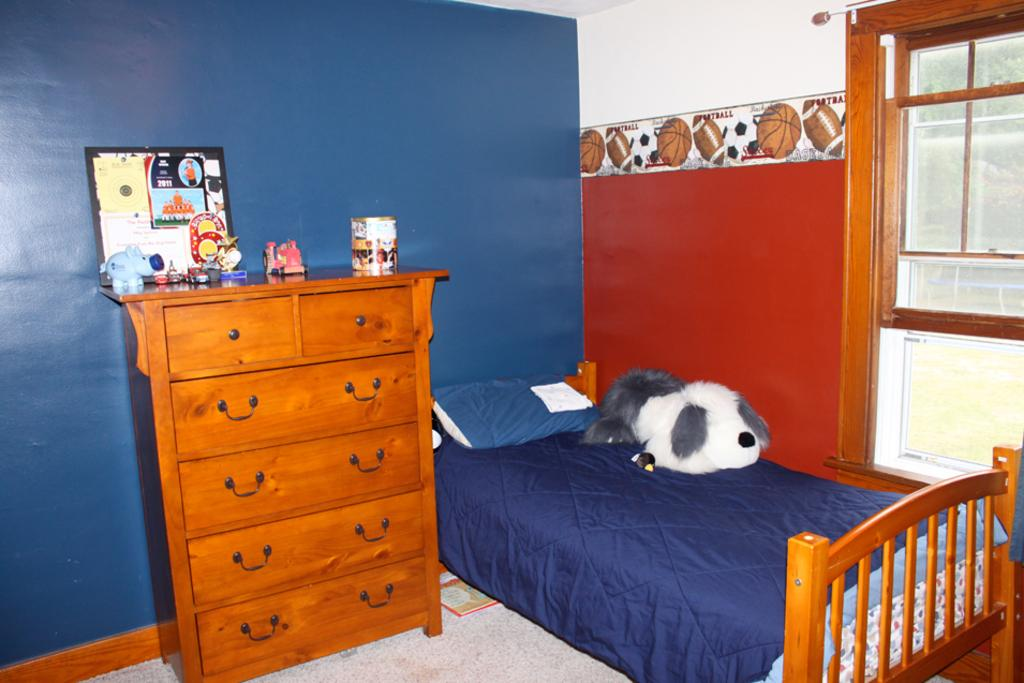cabinet_door: (178, 369, 412, 431), (188, 511, 419, 573), (196, 585, 423, 646), (188, 437, 414, 497), (166, 302, 300, 362), (296, 295, 414, 348)
handle: (227, 546, 281, 578), (236, 618, 286, 648), (222, 470, 272, 500), (344, 448, 397, 476), (342, 376, 390, 406), (351, 516, 396, 548), (217, 396, 265, 422), (356, 584, 398, 612), (352, 314, 370, 329), (226, 328, 242, 344)
